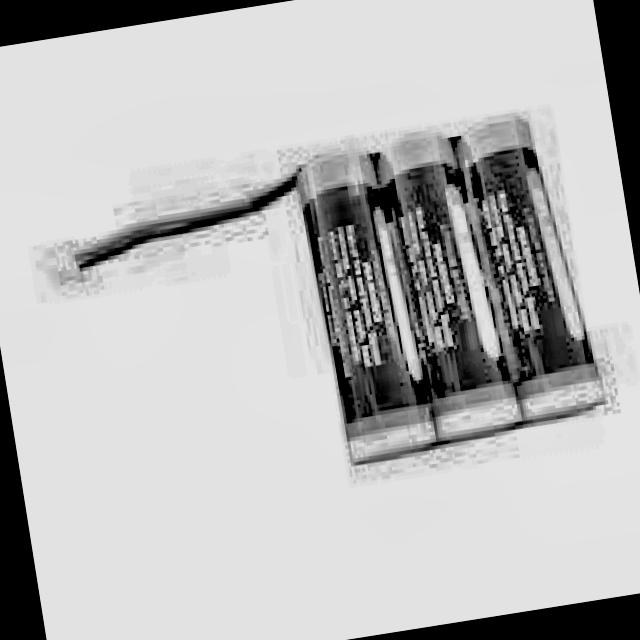Battery: (376, 127, 523, 440), (456, 110, 604, 420), (297, 144, 435, 464)
